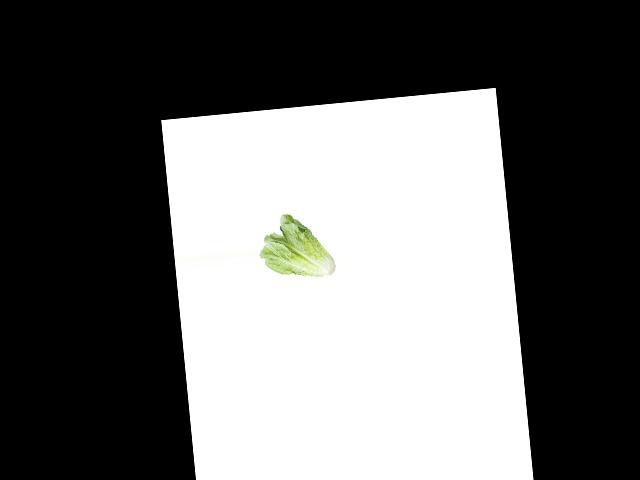lettuce: (254, 207, 336, 285)
